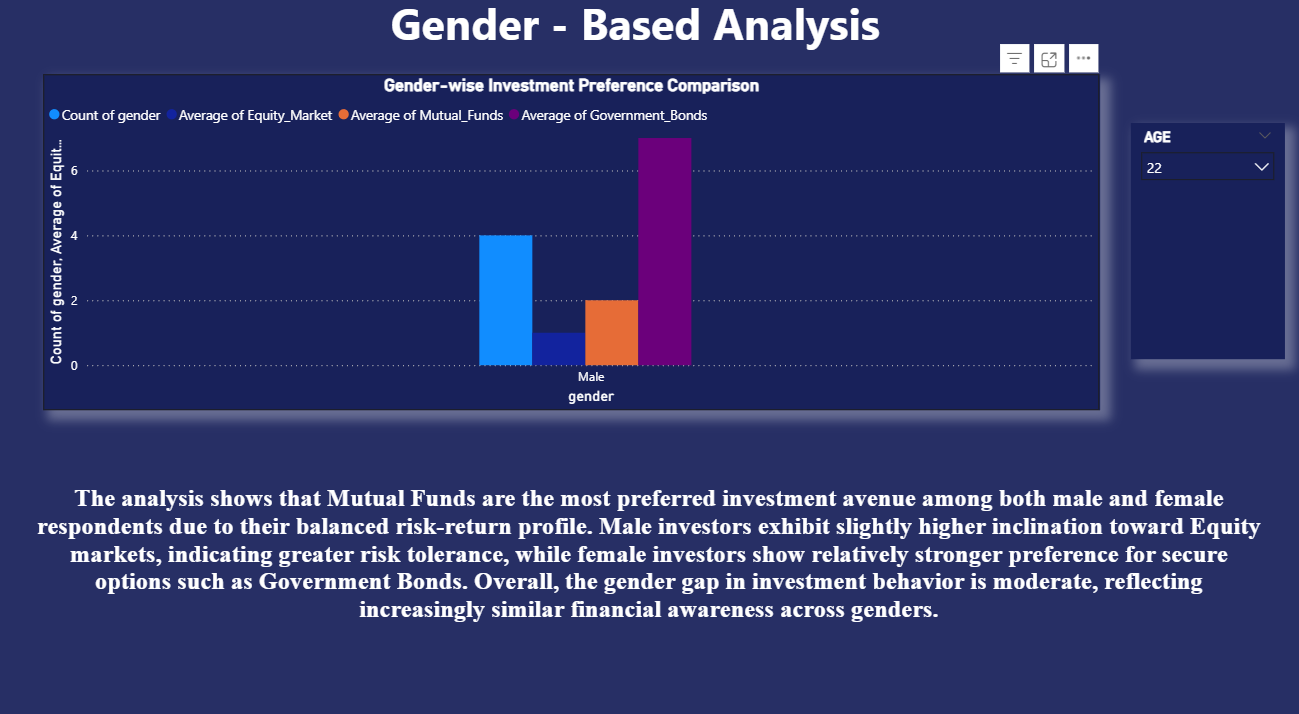

This screenshot's page, from the dashboard's own definition file:
{"tool":"powerbi","page":{"name":"Gender Analysis","canvas":[1280,720],"ordinal":1},"visuals":[{"type":"textbox","box":[9.6,0,1233.6,68.6],"z":0},{"type":"clusteredColumnChart","title":"Gender-wise Investment Preference Comparison","fields":{"Category":["Data_set 2.gender"],"Y":["CountNonNull(Data_set 2.gender)","Avg(Data_set 2.Equity_Market)","Avg(Data_set 2.Mutual_Funds)","Avg(Data_set 2.Government_Bonds)"]},"box":[45.3,85.1,1037.4,329.3],"z":1000},{"type":"slicer","fields":{"Values":["Data_set 2.age"]},"box":[1112.9,133.1,150.9,231.9],"z":2000},{"type":"textbox","box":[30.2,481.6,1218.5,156.4],"z":3000}]}

Visuals, with their boxes in screenshot pixels (x1, y1, x2, y2), scaled from the page's 1280x720 canvas onto the 1299x714 screenshot:
textbox: x1=10, y1=0, x2=1262, y2=68
"Gender-wise Investment Preference Comparison" clusteredColumnChart: x1=46, y1=84, x2=1099, y2=411
slicer - Data_set 2.age: x1=1129, y1=132, x2=1283, y2=362
textbox: x1=31, y1=478, x2=1267, y2=633
